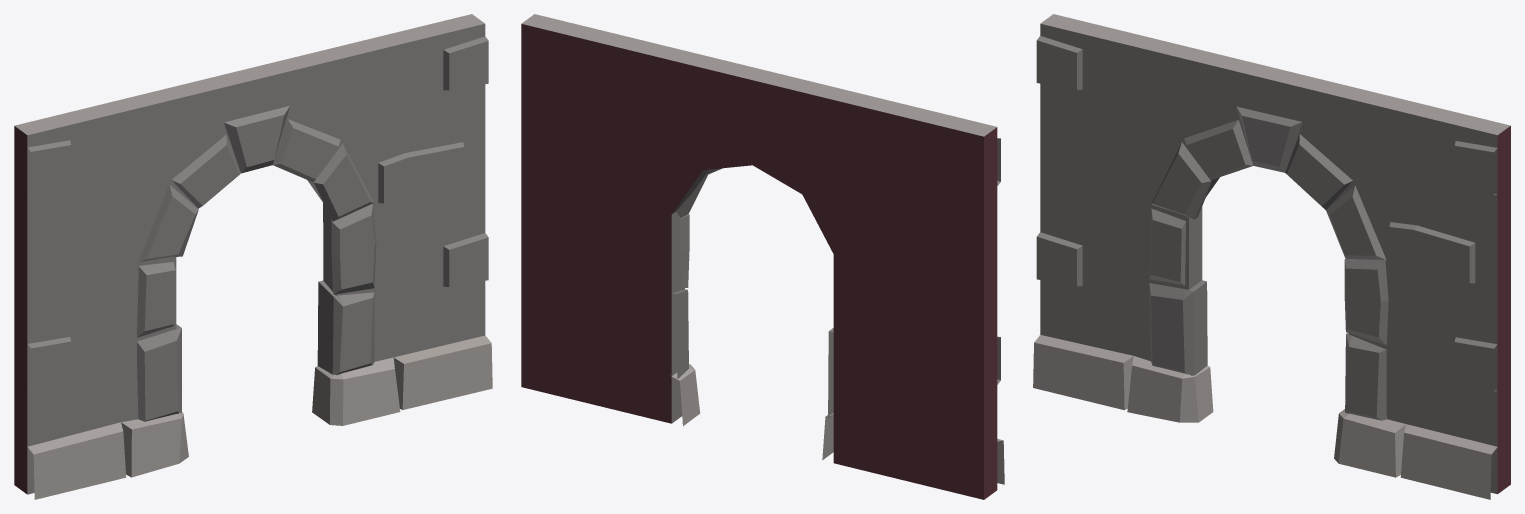
Rendered from dungeon-door-stone.fbx.
3 views of the same model, side by side, from view 1: azimuth 30°, elevation 25°; view 2: azimuth 150°, elevation 25°; view 3: azimuth 330°, elevation 25° (orthographic).
Visible parts, largest first — view 1: dungeon-door-stone; view 2: dungeon-door-stone; view 3: dungeon-door-stone.
Part boxes in pixels (x1,y1,x2,y2): dungeon-door-stone: (14,14,492,499); dungeon-door-stone: (521,14,1004,499); dungeon-door-stone: (1033,14,1510,499).
Bounding box in the file's own units: 4 × 3 × 0.3307.
